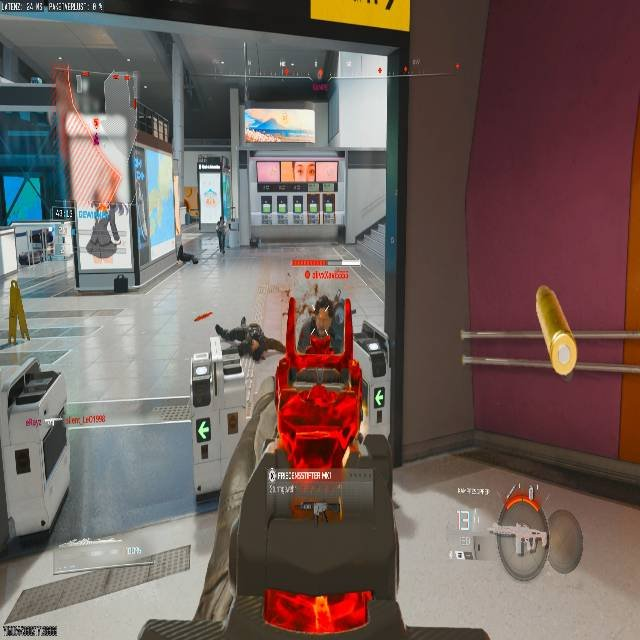player: (219, 290, 385, 471), (215, 214, 232, 254)
